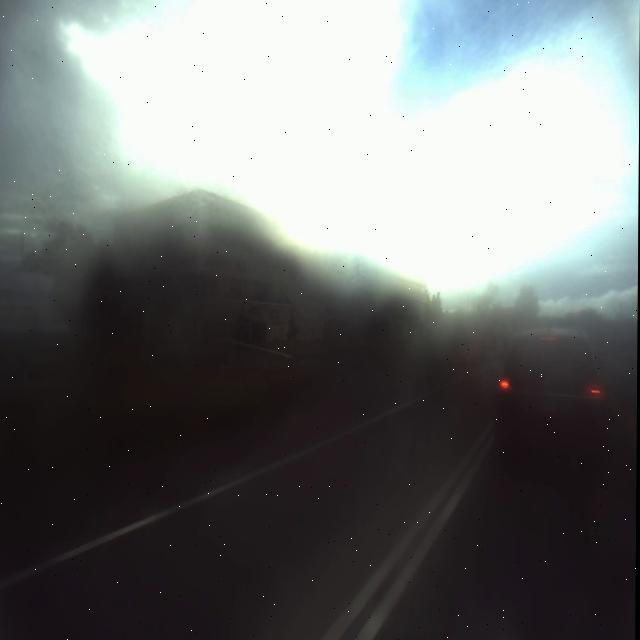car: (495, 305, 614, 474)
